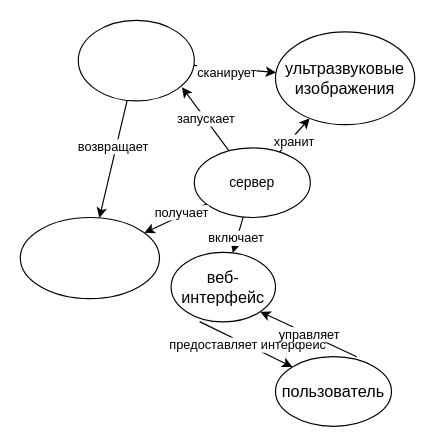
The diagram is 435 pixels wide and 447 high, and some of its shapes have lost their labels. Here are the shapes that lost their labels. From the top down, the centre of each, then its label:
(135,60): распознавание
(89,257): отчет о результатах диагностики
